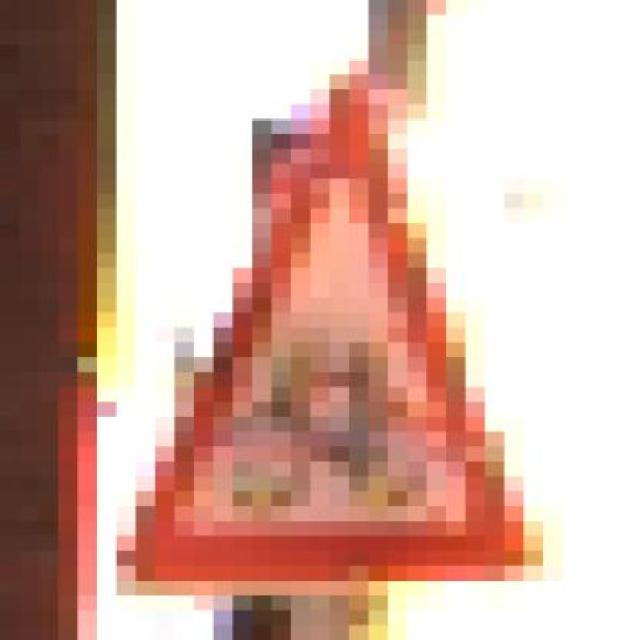CYCLE ROUTE AHEAD WARNING: (135, 90, 563, 596)
